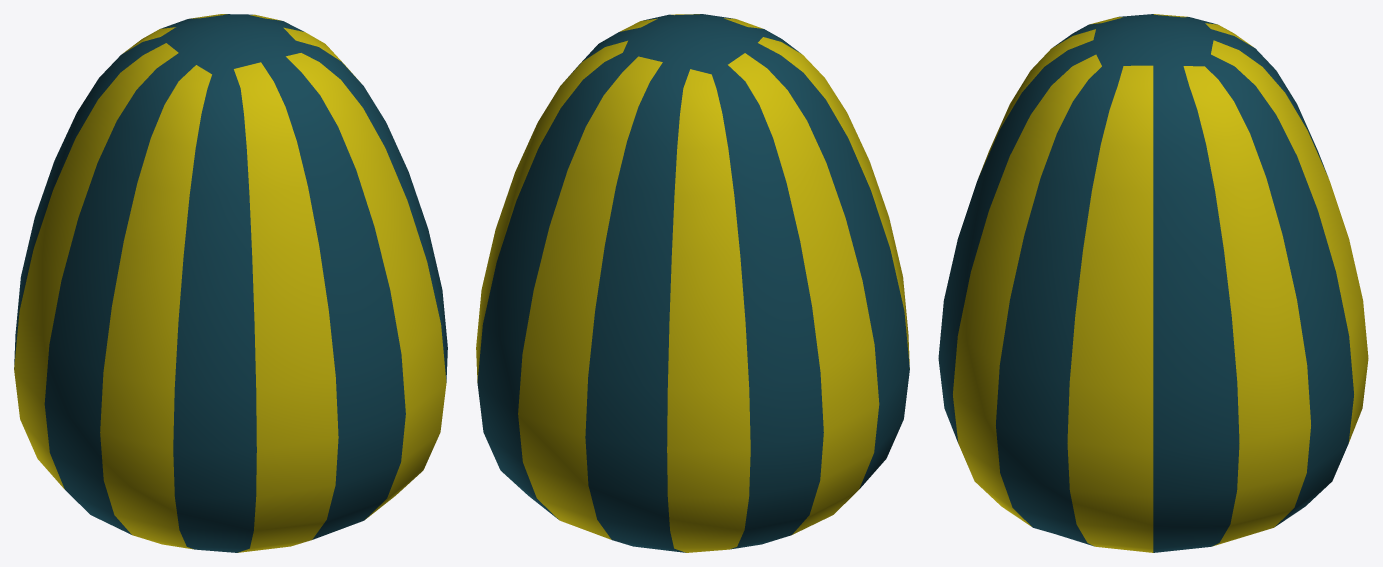
The model's file is huevodos.fbx.
The picture shows the model from 3 angles, left to right: view 1: azimuth 30°, elevation 25°; view 2: azimuth 150°, elevation 25°; view 3: azimuth 270°, elevation 25°; orthographic projection.
Parts seen in each view (by area): view 1: Mesh (2); view 2: Mesh (2); view 3: Mesh (2).
Part boxes in pixels (box(x1,y1,x2,y2)): Mesh (2): box(14, 14, 447, 552); Mesh (2): box(476, 14, 909, 552); Mesh (2): box(938, 14, 1368, 552).
Size of the model in its own units: 110 by 138 by 110.
